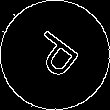P_SE: (24, 25, 86, 85)
